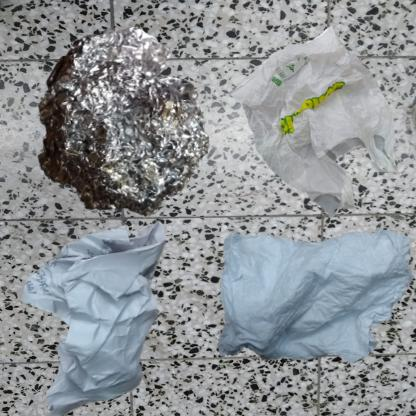aluminio: (10, 10, 234, 249)
bolsa: (213, 10, 416, 229)
papel: (10, 213, 199, 416), (213, 213, 416, 376)
